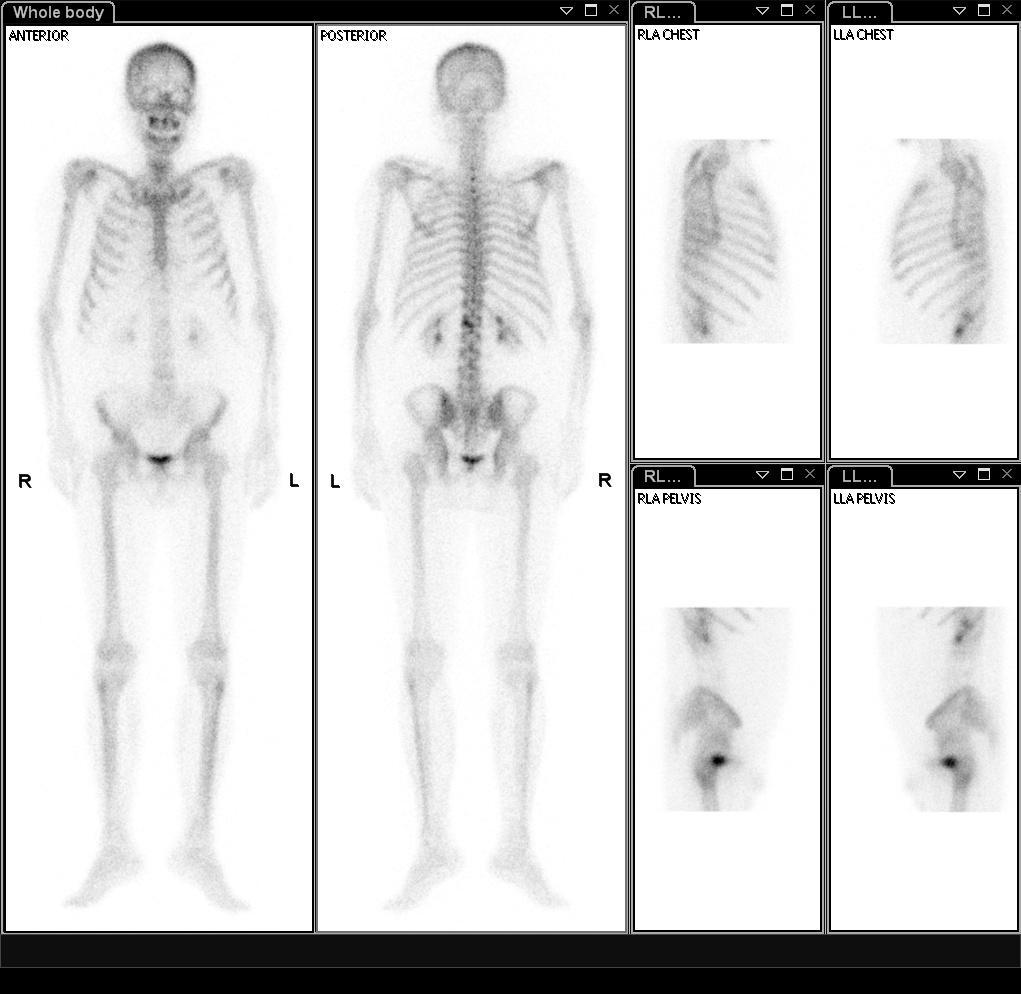person: (4, 25, 627, 934)
